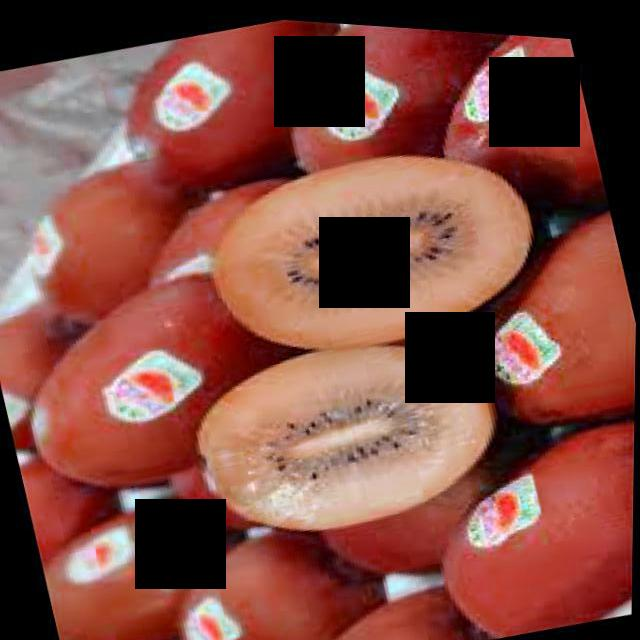kiwi: (4, 244, 312, 511), (263, 15, 568, 213), (415, 397, 636, 640), (435, 195, 638, 444), (104, 7, 341, 212), (410, 23, 611, 240), (11, 140, 223, 340), (36, 472, 268, 640), (160, 498, 402, 640)
